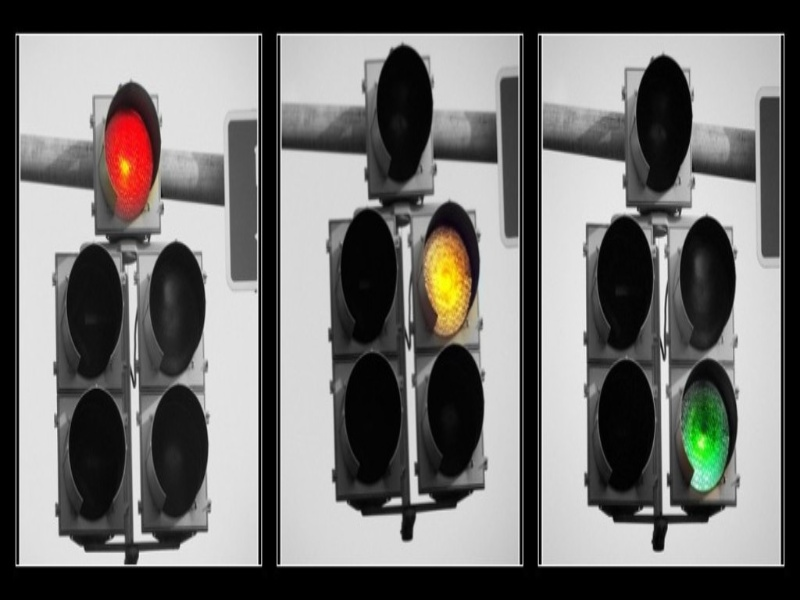green_light: (659, 351, 751, 508)
red_light: (82, 76, 181, 236)
yellow_light: (408, 193, 492, 345)
